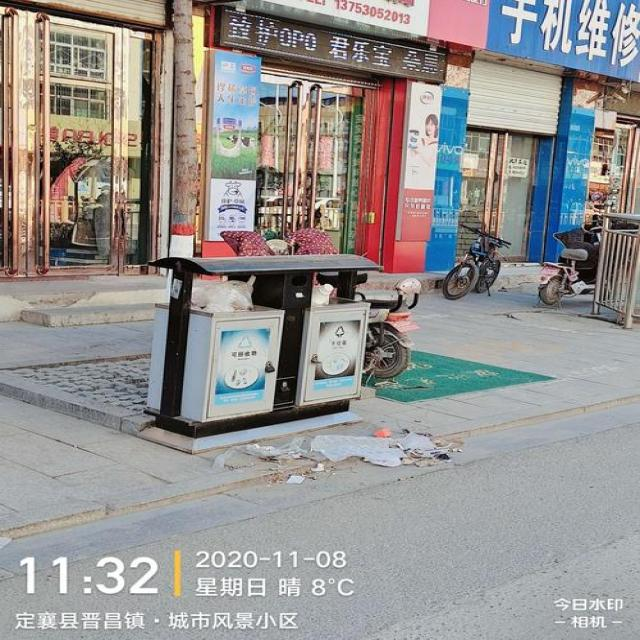garbage: (213, 428, 467, 483)
overflow: (140, 254, 382, 437)
